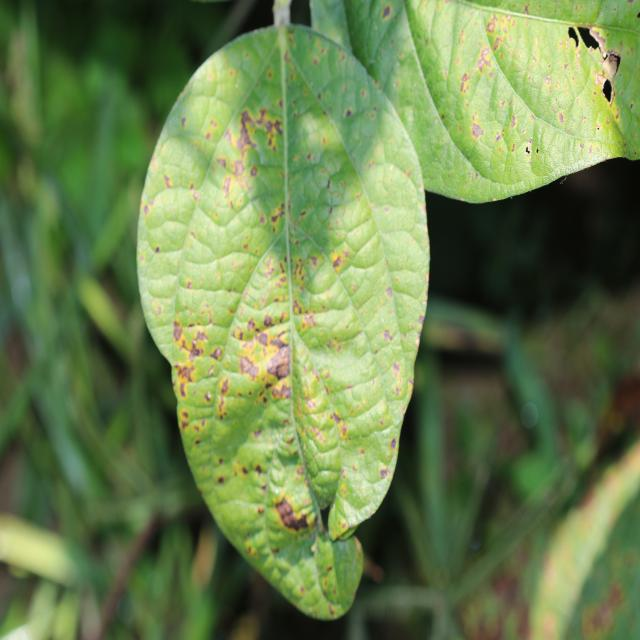Bacterial_Blight: (221, 105, 281, 197), (262, 304, 304, 421), (570, 24, 621, 108), (172, 313, 218, 376), (275, 494, 312, 531), (587, 27, 609, 54), (222, 173, 241, 202), (522, 140, 540, 165), (270, 333, 289, 351), (172, 319, 185, 343)
Soybean: (137, 26, 429, 619)
